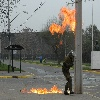fire: (49, 6, 75, 34), (23, 85, 64, 94), (54, 35, 63, 48), (67, 89, 70, 93)
